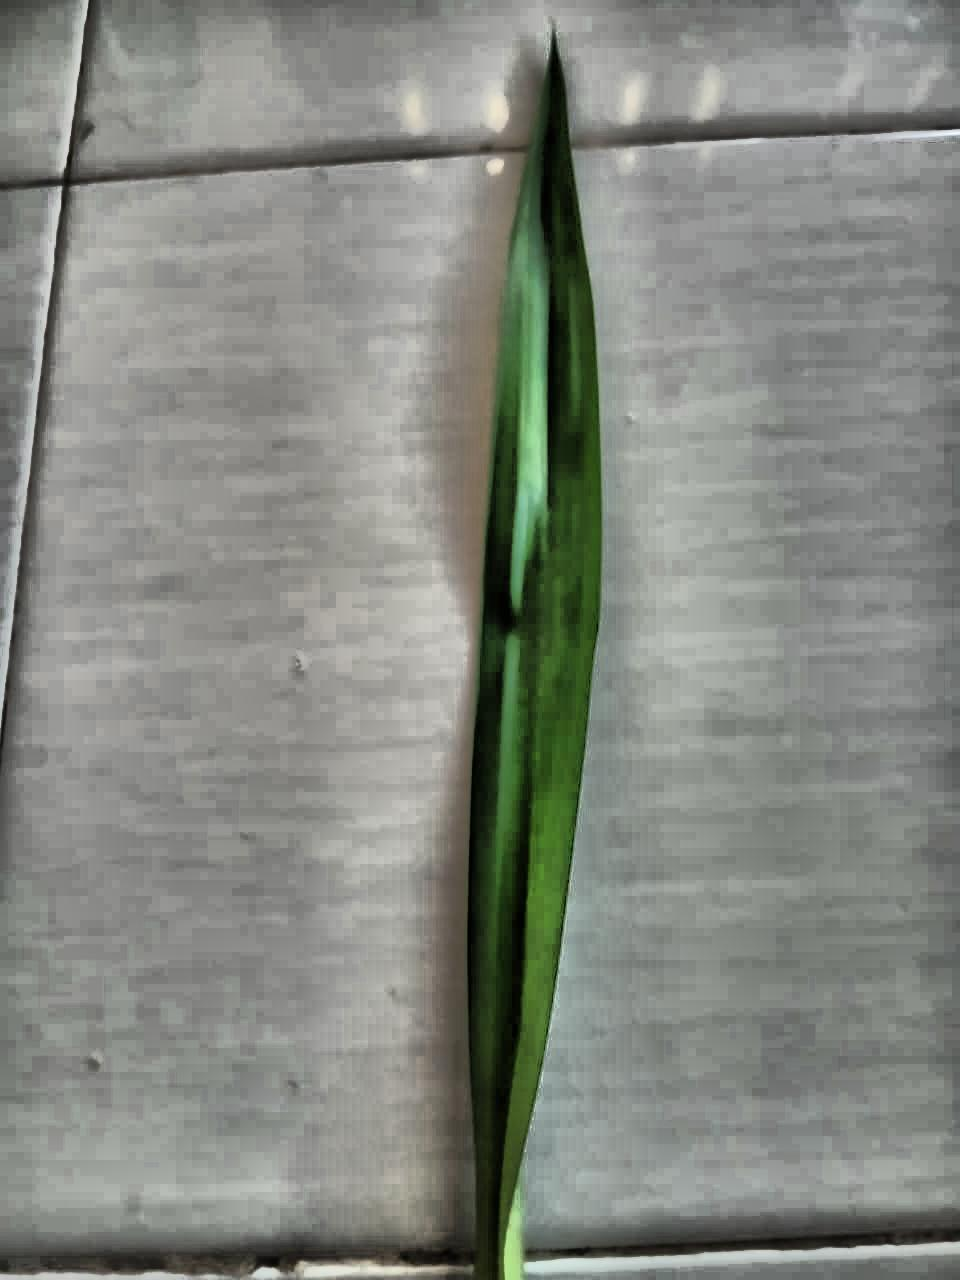daun pandan: (467, 38, 601, 1279)
